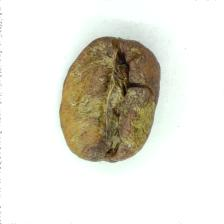NG: (74, 40, 149, 158)
